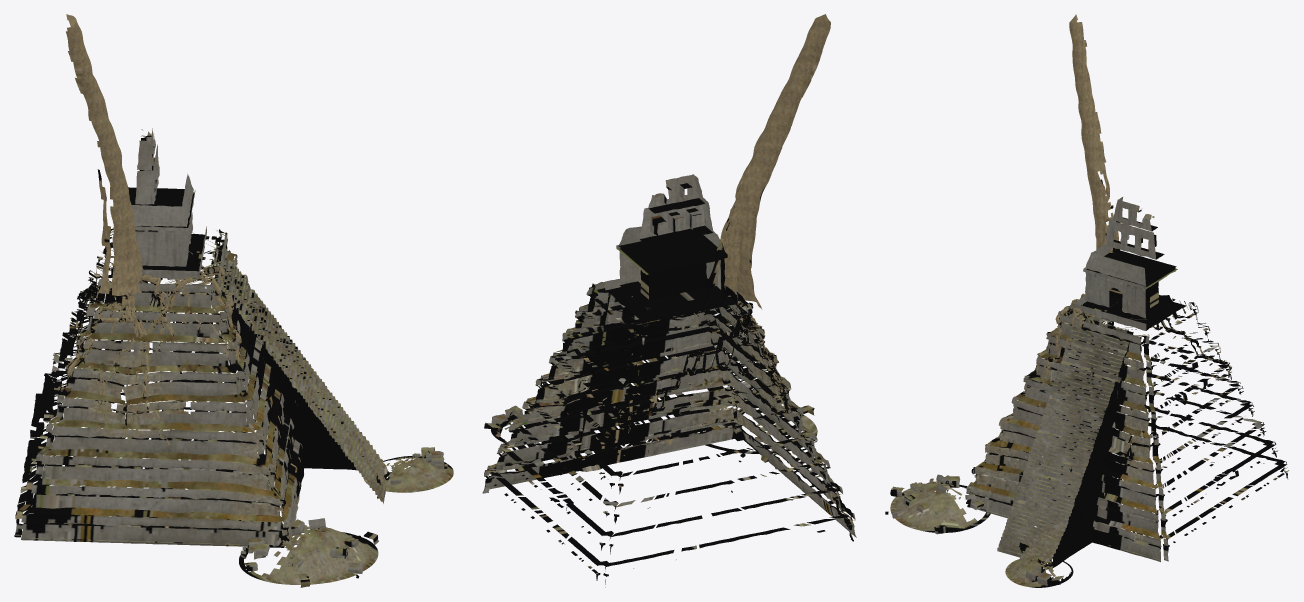
The picture shows the model from 3 angles, left to right: view 1: azimuth 30°, elevation 25°; view 2: azimuth 150°, elevation 25°; view 3: azimuth 270°, elevation 25°; orthographic projection. The views are drawn at different scales.
Visible parts, largest first — view 1: bake_pyramid; view 2: bake_pyramid; view 3: bake_pyramid.
Part boxes in pixels (<box>): bake_pyramid: <box>14,14,453,587</box>; bake_pyramid: <box>482,14,856,587</box>; bake_pyramid: <box>885,14,1289,587</box>.
Bounding box in the file's own units: 48.35 × 60.65 × 51.41.
Materials: 1 (1 with a texture image).
